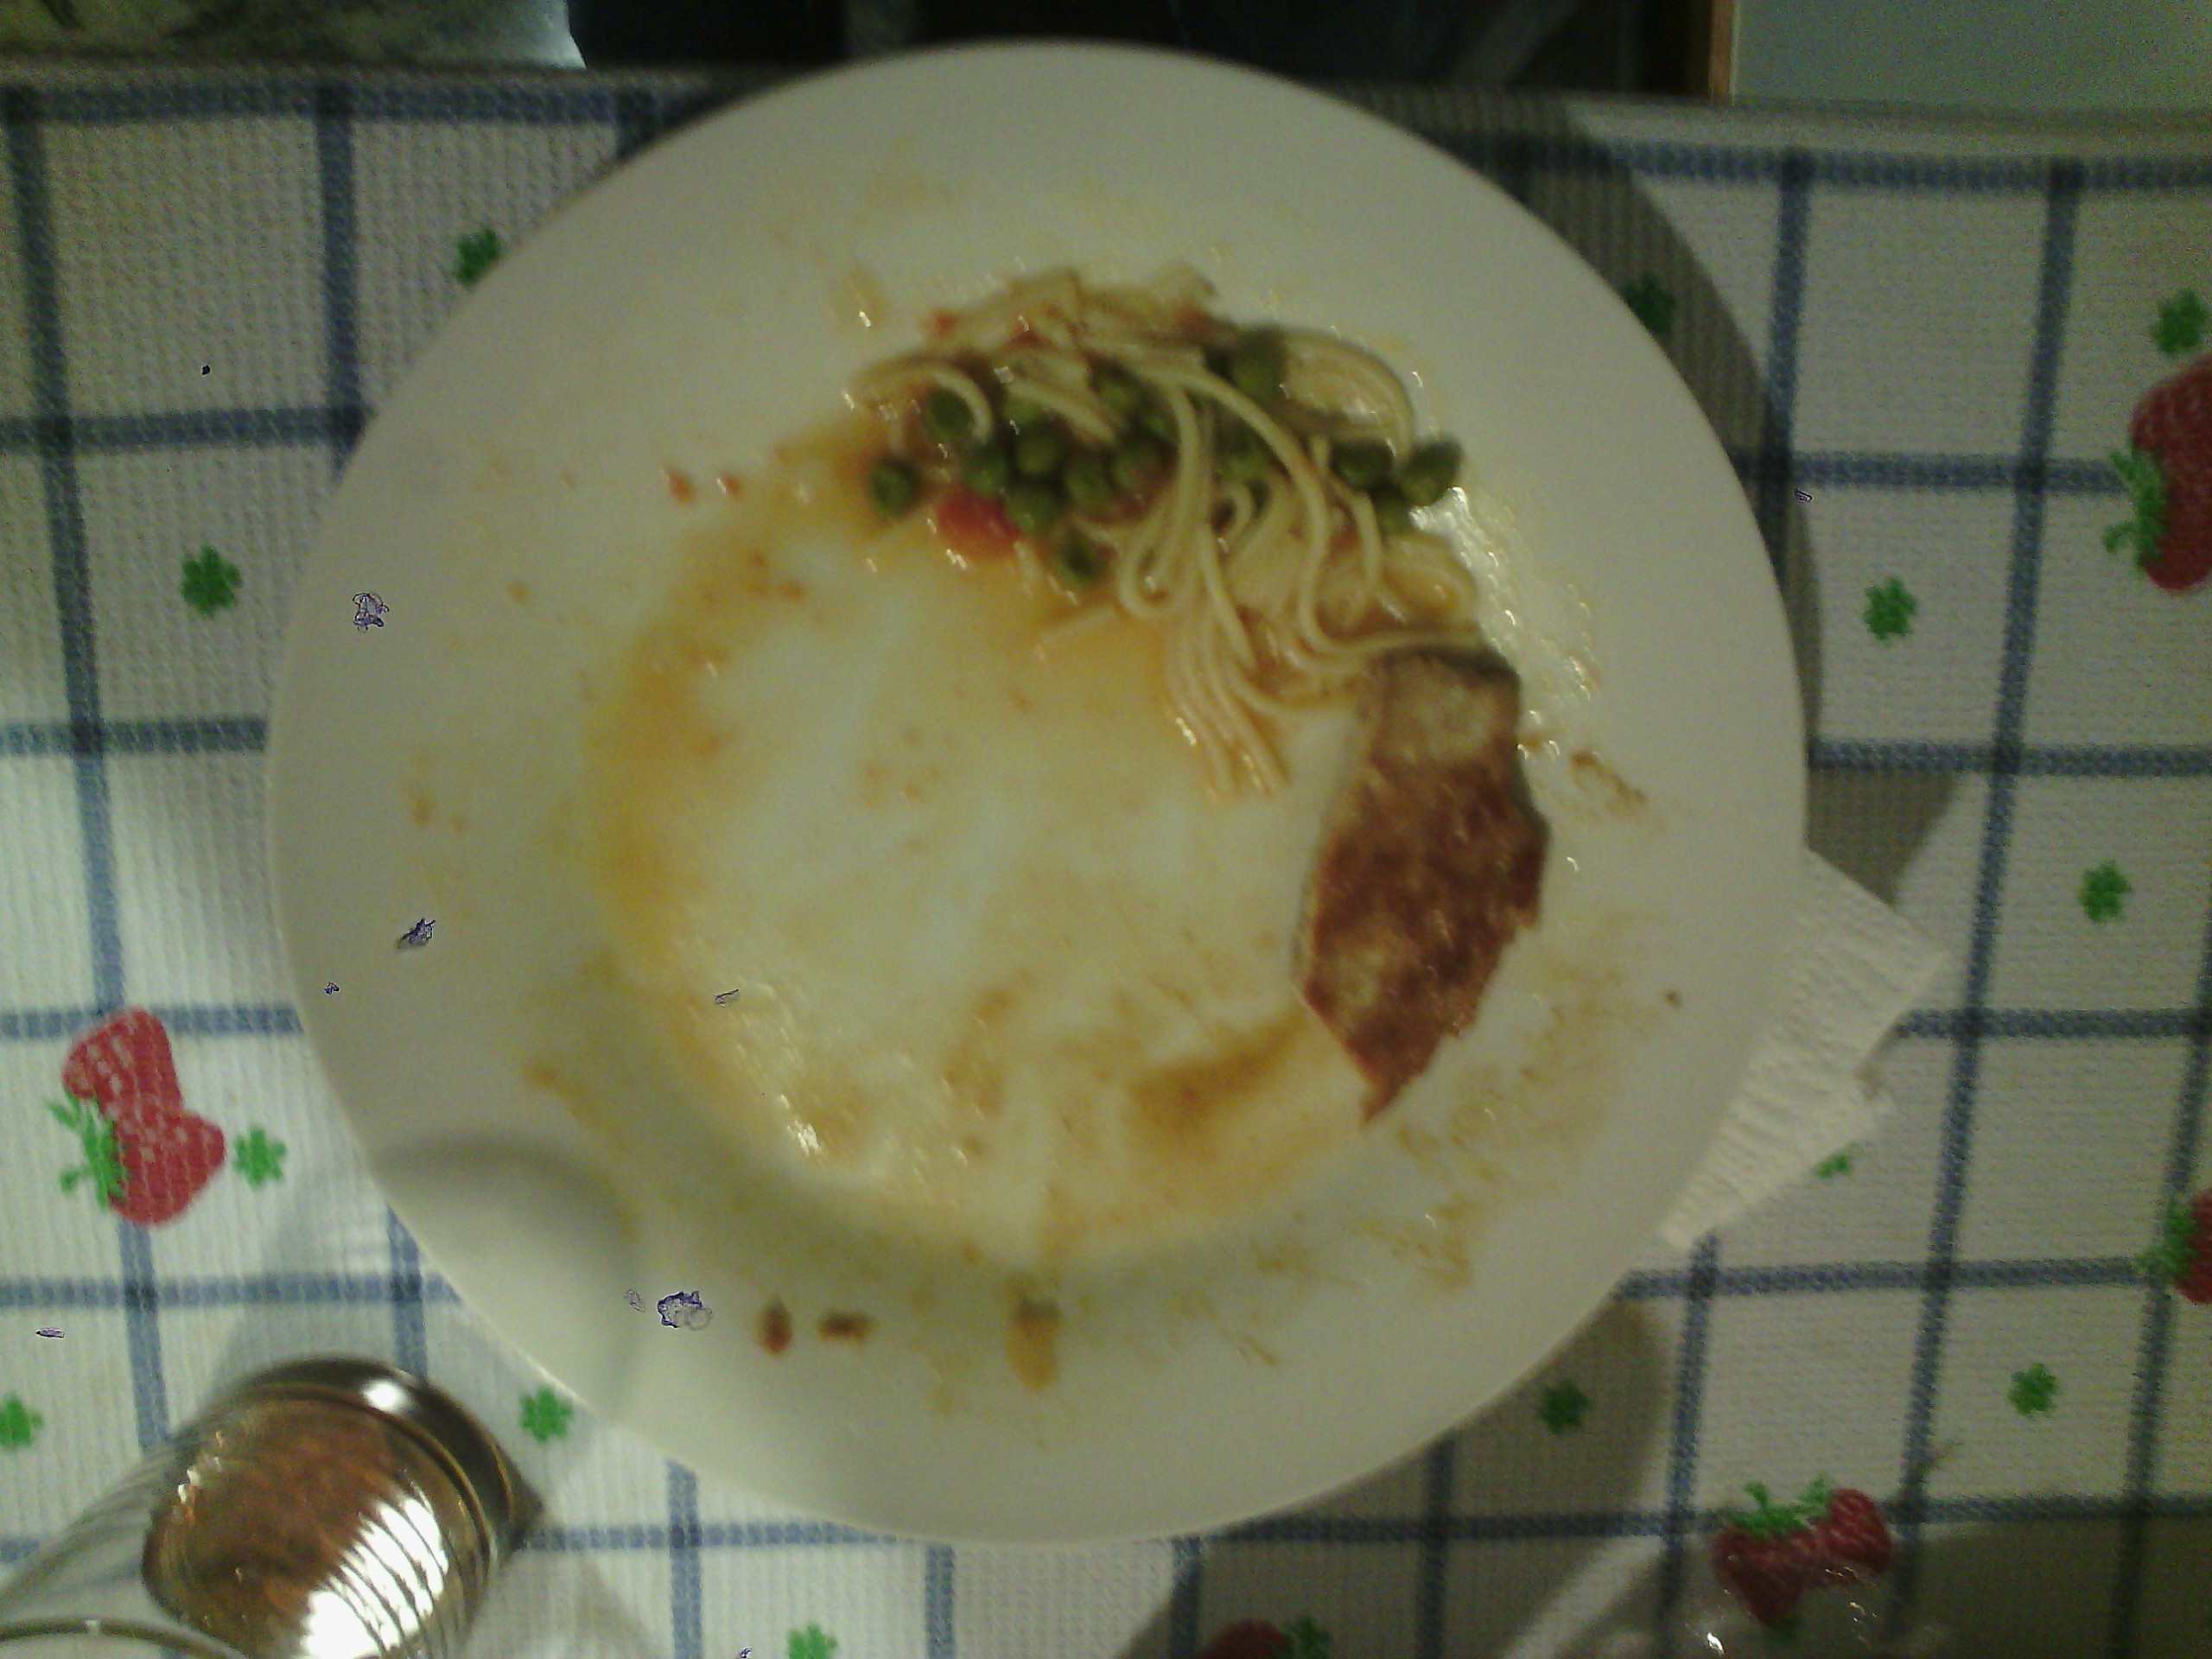21-40: (296, 47, 1801, 1553)
